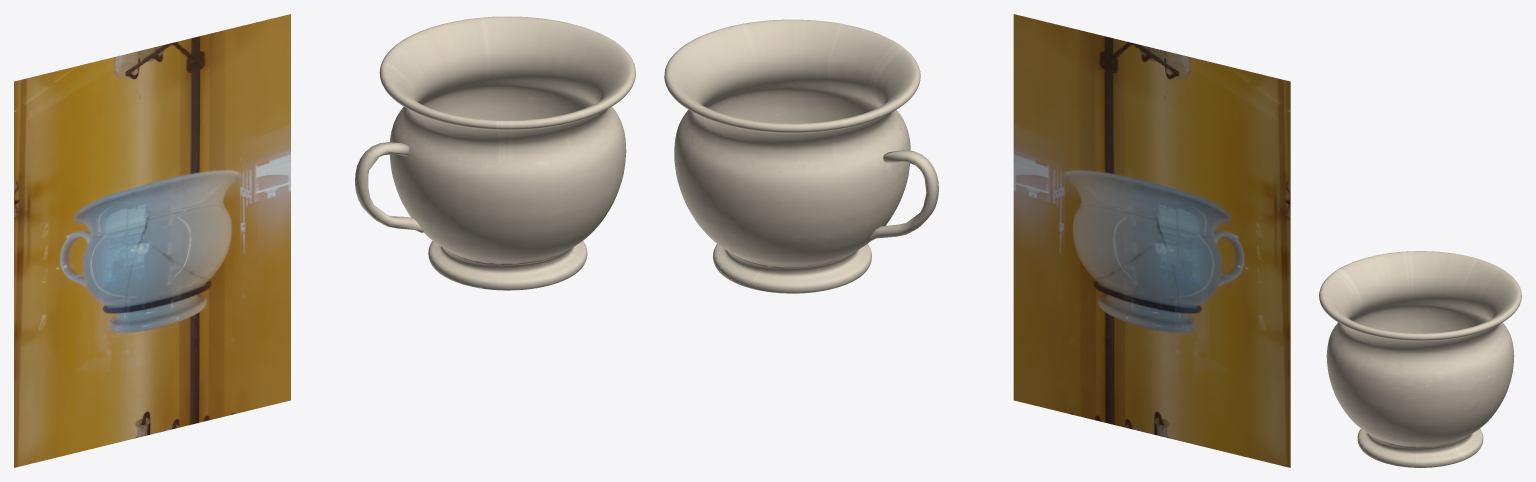
Rendered from bacinilla_de_porcelana_antigua.lod2.glb.
3 views of the same model, side by side, from view 1: azimuth 30°, elevation 25°; view 2: azimuth 150°, elevation 25°; view 3: azimuth 270°, elevation 25° (orthographic). The views are drawn at different scales.
Visible parts, largest first — view 1: Object_4, Sphere_1, BezierCurve_2; view 2: Object_4, Sphere_1, BezierCurve_2; view 3: Sphere_1.
Part boxes in pixels (box(x1,y1,x2,y2)): Object_4: box(14, 14, 290, 467); Sphere_1: box(379, 16, 635, 290); BezierCurve_2: box(355, 142, 423, 232); Object_4: box(1013, 14, 1290, 467); Sphere_1: box(664, 19, 920, 293); BezierCurve_2: box(869, 150, 938, 240); Sphere_1: box(1319, 251, 1521, 467).
Bounding box in the file's own units: 2.19 × 1.33 × 0.8015.
Materials: 4 (3 with a texture image).
